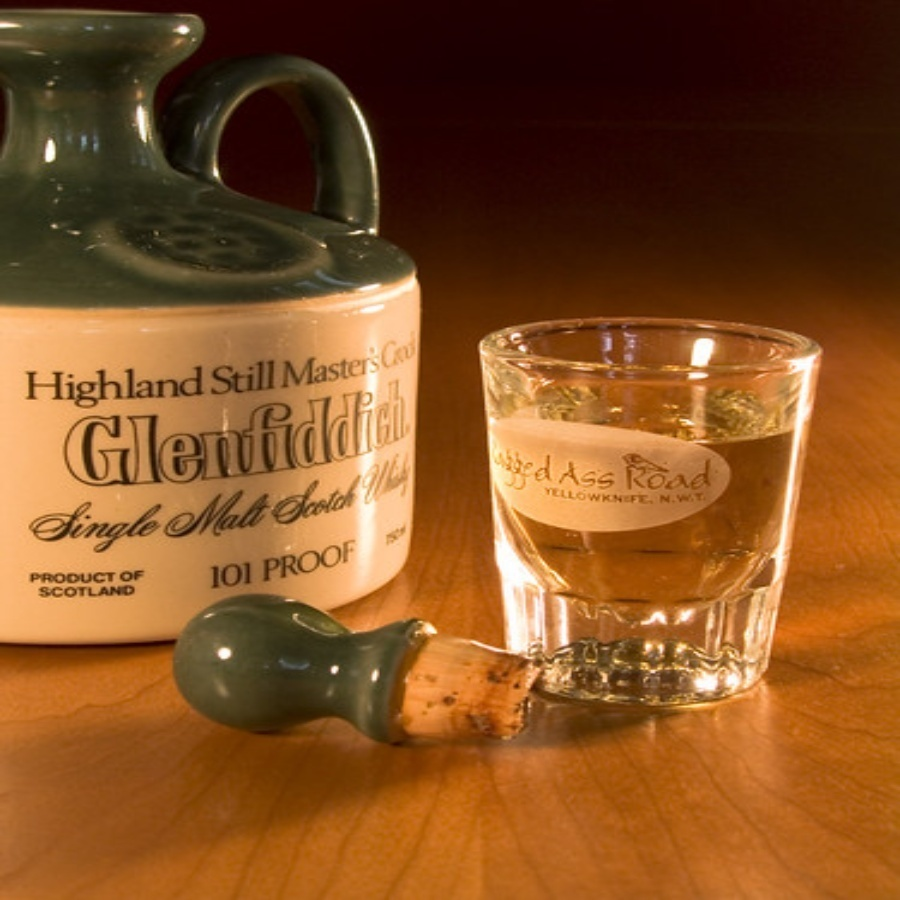whiskey: (483, 314, 794, 692)
